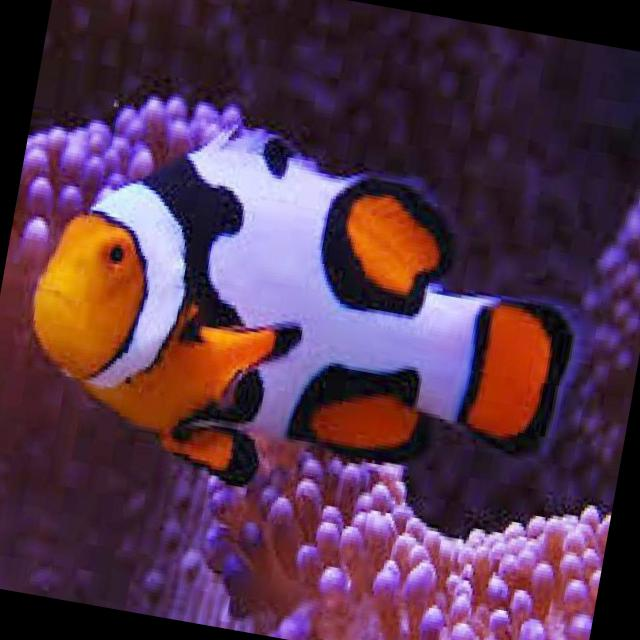ClownFish: (7, 111, 586, 538)
